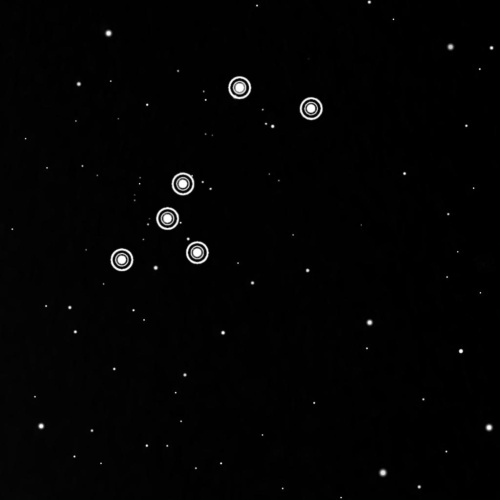canis_major: (105, 71, 331, 280)
